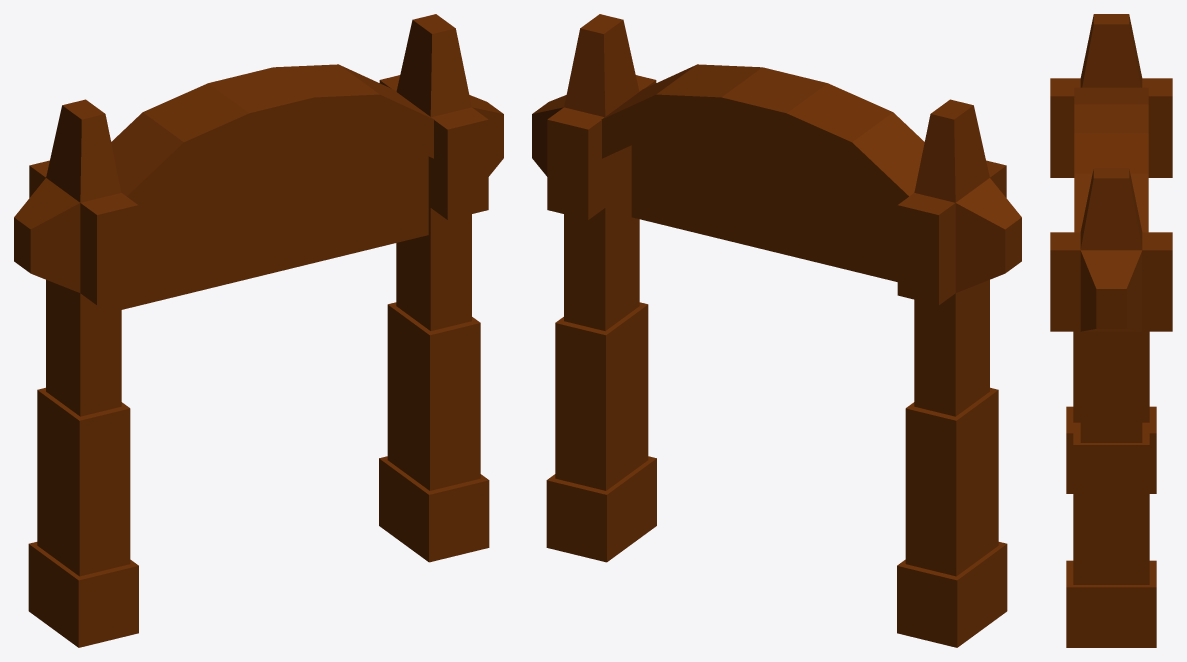
3 renders of one model, left to right at view 1: azimuth 30°, elevation 25°; view 2: azimuth 150°, elevation 25°; view 3: azimuth 270°, elevation 25°, orthographic. The views are drawn at different scales.
Visible parts, largest first — view 1: object2; view 2: object2; view 3: object2.
Part boxes in pixels (box(x1,y1,x2,y2)): object2: box(14, 14, 503, 647); object2: box(532, 14, 1021, 647); object2: box(1050, 14, 1172, 647).
Bounding box in the file's own units: 563 × 583 × 140.
